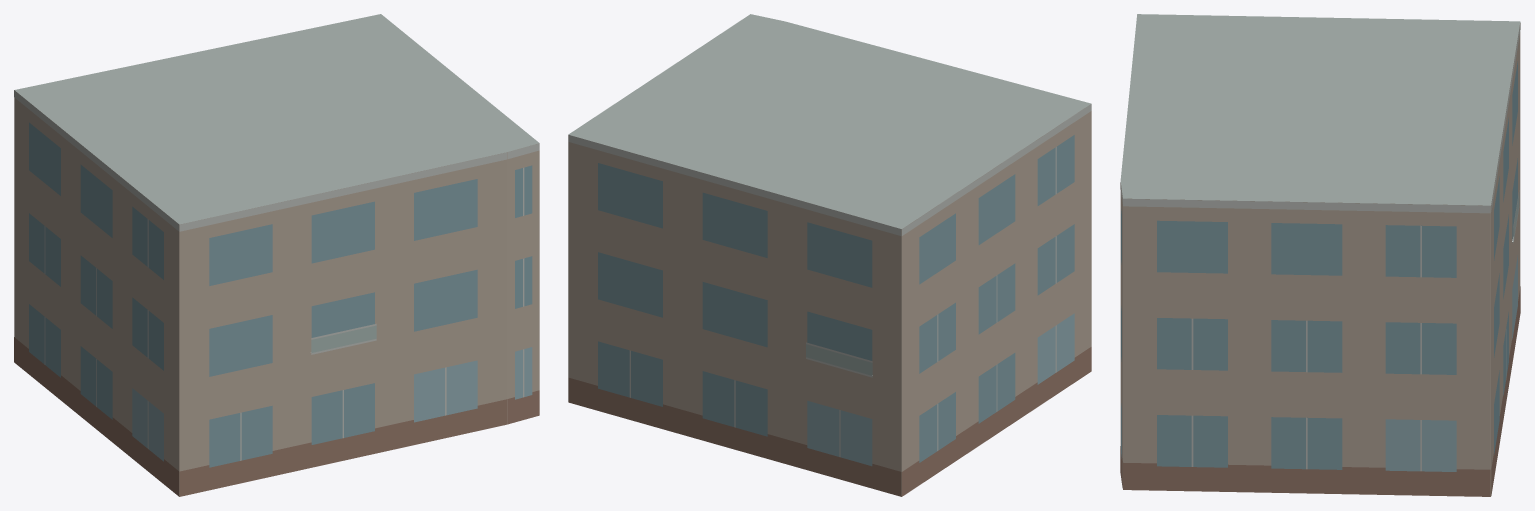
Rendered from survey-upis-32512314.glb.
The picture shows the model from 3 angles, left to right: view 1: azimuth 30°, elevation 25°; view 2: azimuth 150°, elevation 25°; view 3: azimuth 270°, elevation 25°; orthographic projection. The views are drawn at different scales.
Parts seen in each view (by area): view 1: survey-upis-32512314.tmp; view 2: survey-upis-32512314.tmp; view 3: survey-upis-32512314.tmp.
Part boxes in pixels (x1=…): survey-upis-32512314.tmp: x1=14, y1=14, x2=539, y2=496; survey-upis-32512314.tmp: x1=568, y1=14, x2=1091, y2=496; survey-upis-32512314.tmp: x1=1120, y1=14, x2=1520, y2=496.
Size of the model in its own units: 12.92 by 9.15 by 11.4.
